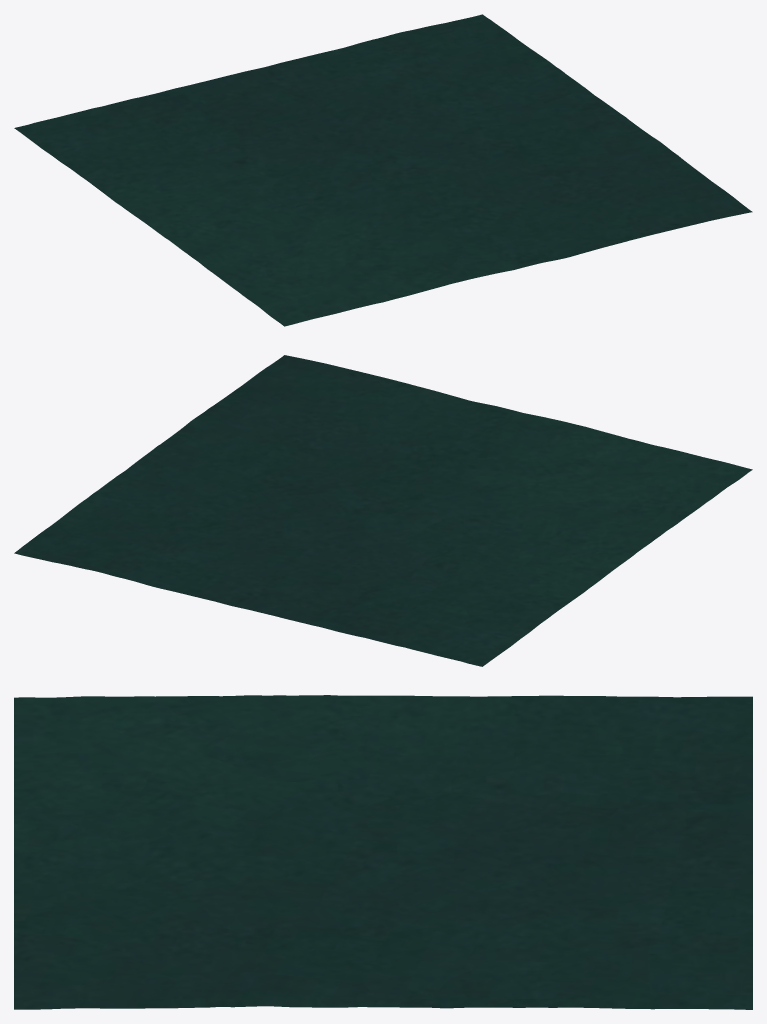
3 views of the same model, one above another, from view 1: azimuth 30°, elevation 25°; view 2: azimuth 150°, elevation 25°; view 3: azimuth 270°, elevation 25° (orthographic). The views are drawn at different scales.
Bounding box in the file's own units: 104 × 0.7515 × 104.
2 materials, 2 textured.
